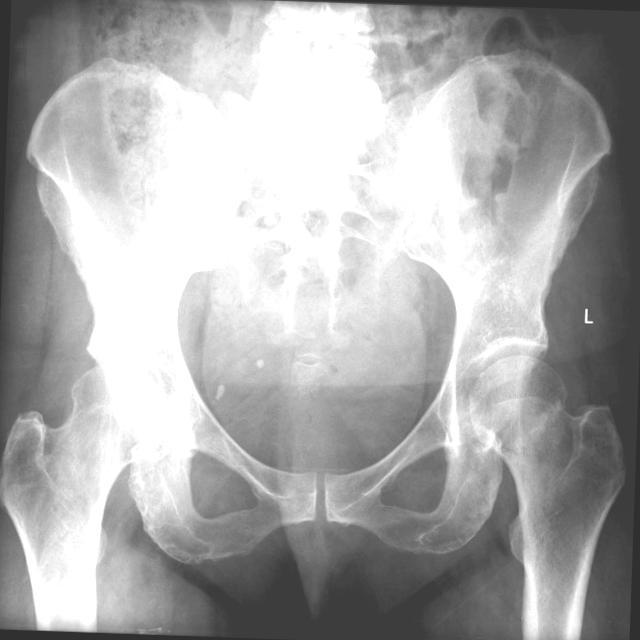Impact Fracture: (304, 471, 334, 526)
